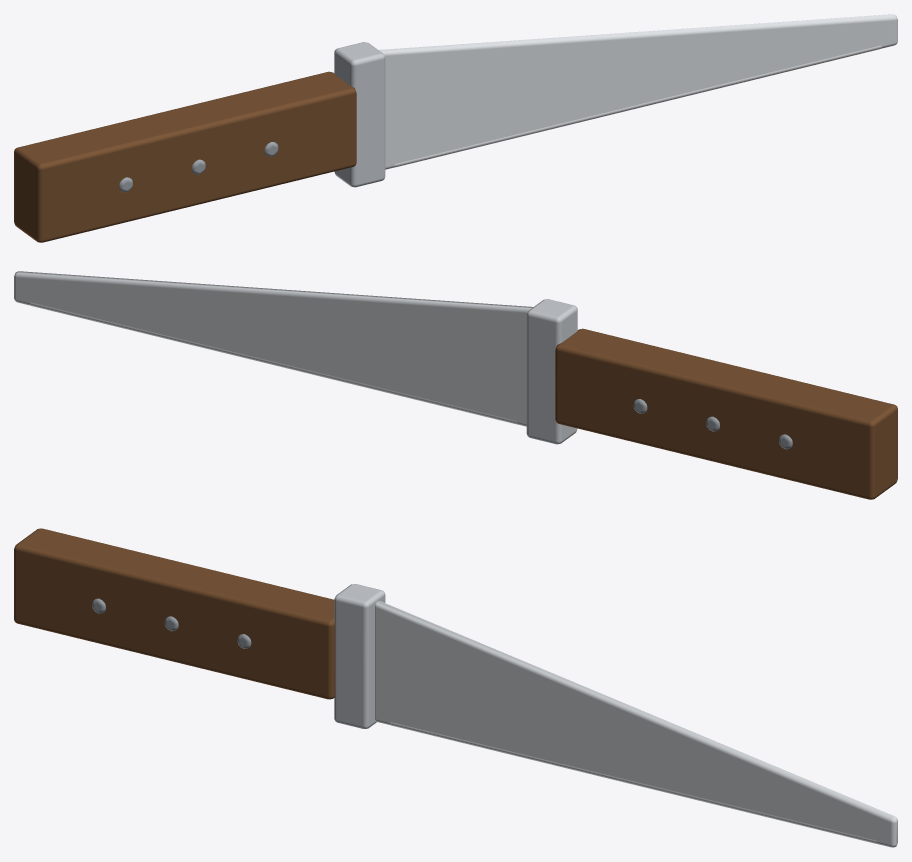
Rendered from Knife.glb.
The picture shows the model from 3 angles, top to bottom: view 1: azimuth 30°, elevation 25°; view 2: azimuth 150°, elevation 25°; view 3: azimuth 330°, elevation 25°; orthographic projection.
Parts seen in each view (by area): view 1: Knife; view 2: Knife; view 3: Knife.
Boxes of the visible parts, x1,y1,x2,y2 form: Knife: (14, 14, 897, 242); Knife: (14, 271, 897, 499); Knife: (14, 528, 897, 847).
Size of the model in its own units: 0.3 by 0.042 by 0.018.
